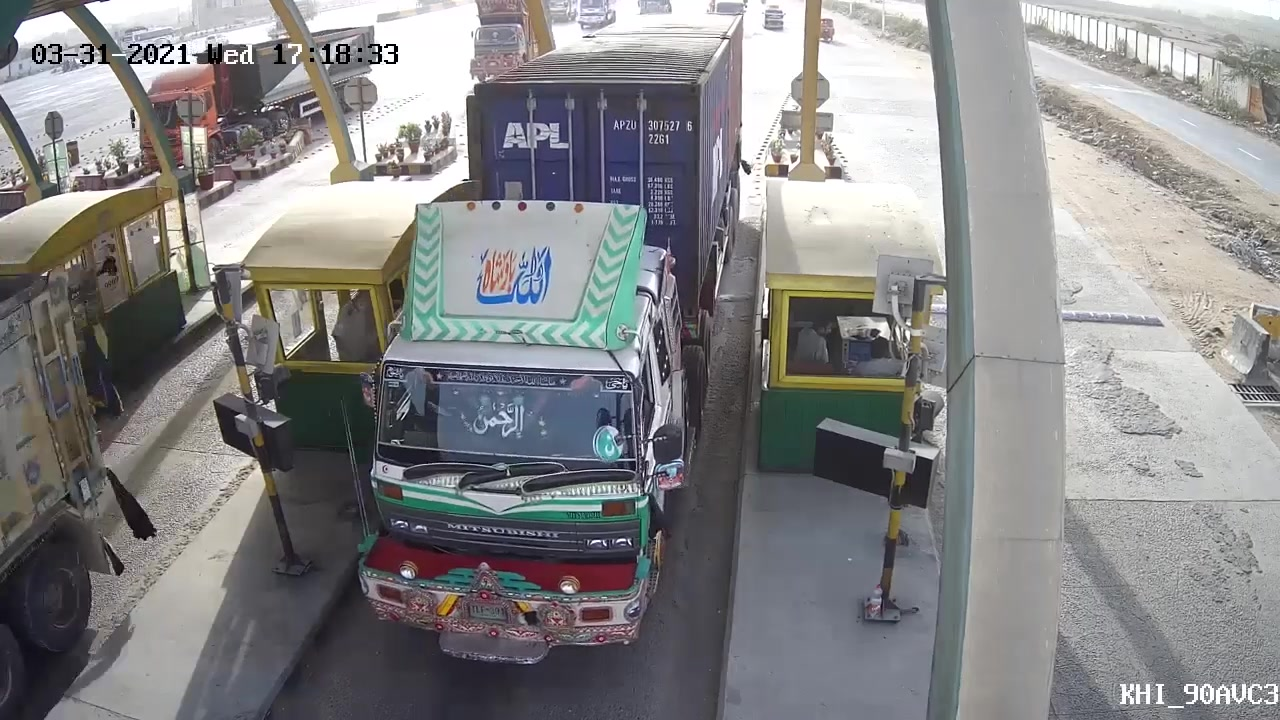F6: (341, 12, 754, 667)
